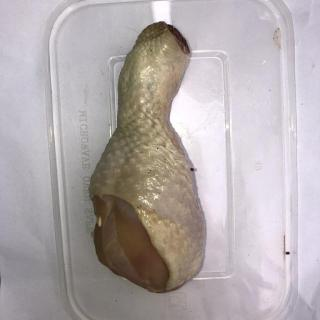Ayam: (88, 21, 207, 294)
